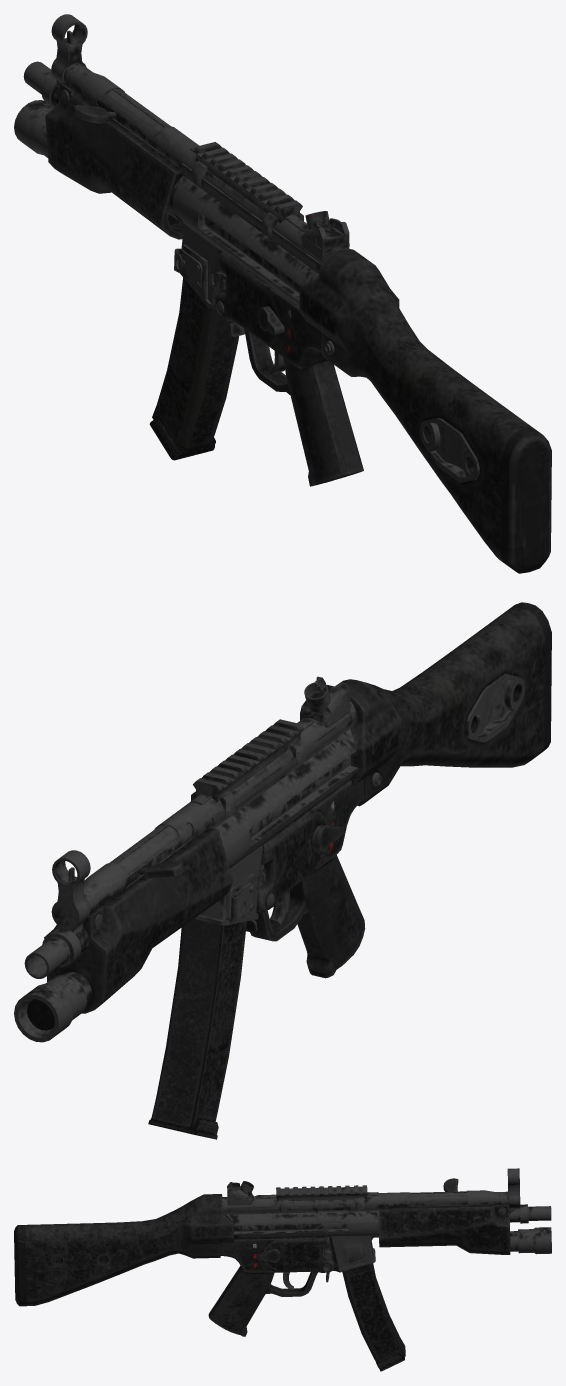
3 renders of one model, top to bottom at view 1: azimuth 30°, elevation 25°; view 2: azimuth 150°, elevation 25°; view 3: azimuth 270°, elevation 25°, orthographic. The views are drawn at different scales.
Visible parts, largest first — view 1: body, mag; view 2: body, mag; view 3: body, mag.
Boxes of the visible parts, x1,y1,x2,y2 form: body: [14, 14, 551, 573]; mag: [149, 245, 238, 460]; body: [14, 602, 551, 1042]; mag: [148, 868, 262, 1139]; body: [14, 1168, 551, 1336]; mag: [338, 1248, 405, 1371].
Bounding box in the file's own units: 0.0745 × 0.2729 × 0.68.
Materials: 2 (2 with a texture image).
